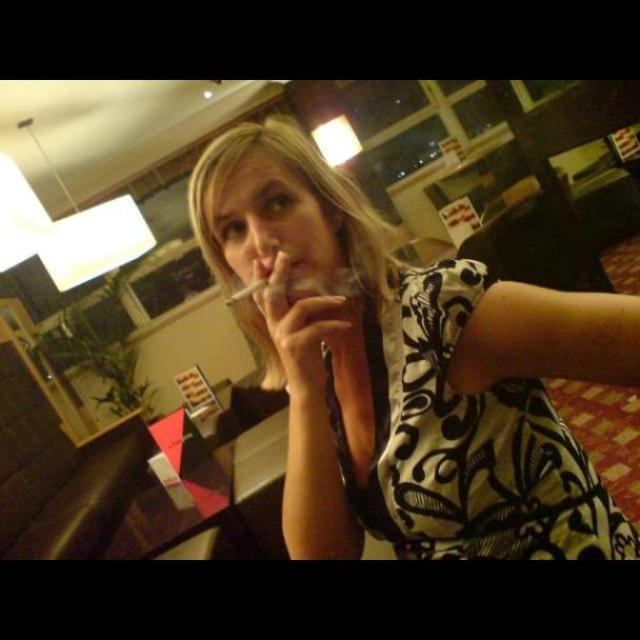rokok: (216, 274, 298, 310)
